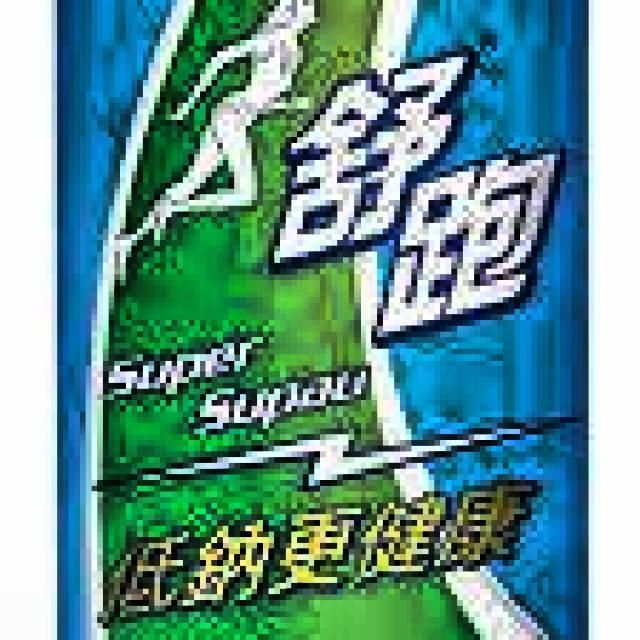metal: (28, 0, 606, 640)
